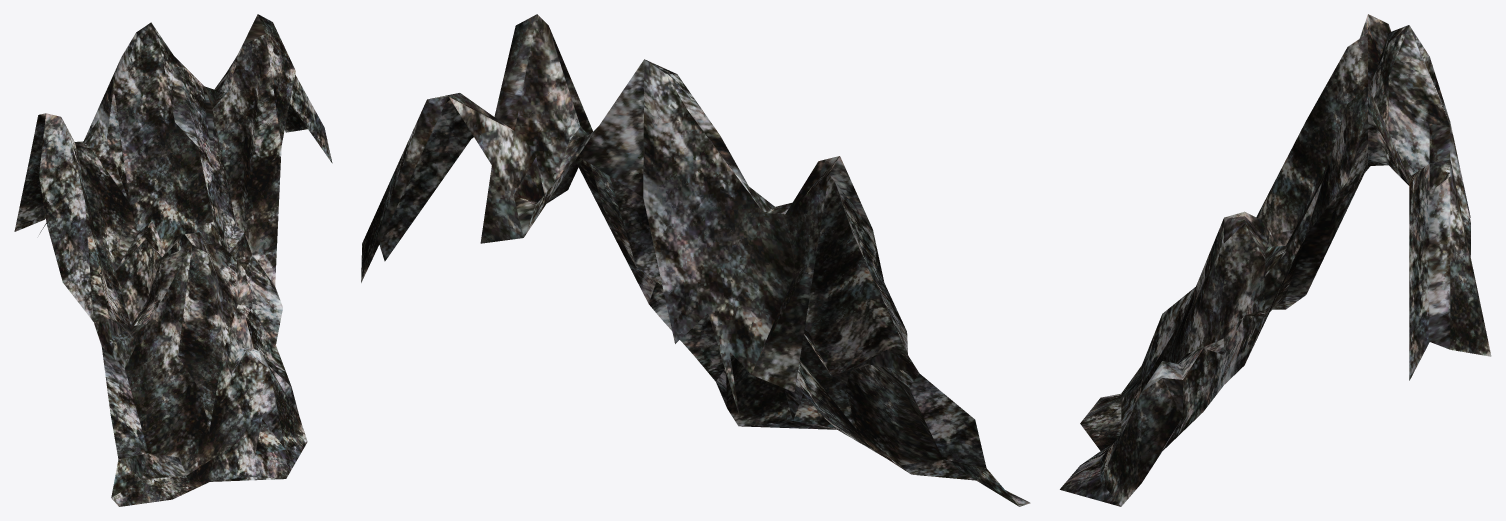
The model's file is OVERHILL_A_01_OBJECT25.fbx.
The picture shows the model from 3 angles, left to right: view 1: azimuth 30°, elevation 25°; view 2: azimuth 150°, elevation 25°; view 3: azimuth 270°, elevation 25°; orthographic projection. The views are drawn at different scales.
Visible parts, largest first — view 1: OVERHILL_A_01_OBJECT25; view 2: OVERHILL_A_01_OBJECT25; view 3: OVERHILL_A_01_OBJECT25.
Boxes of the visible parts, <box> form: OVERHILL_A_01_OBJECT25: <box>14,14,332,506</box>; OVERHILL_A_01_OBJECT25: <box>361,14,1030,506</box>; OVERHILL_A_01_OBJECT25: <box>1060,14,1491,506</box>.
Size of the model in its own units: 301387 by 312306 by 261770.
Materials: 1 (1 with a texture image).
